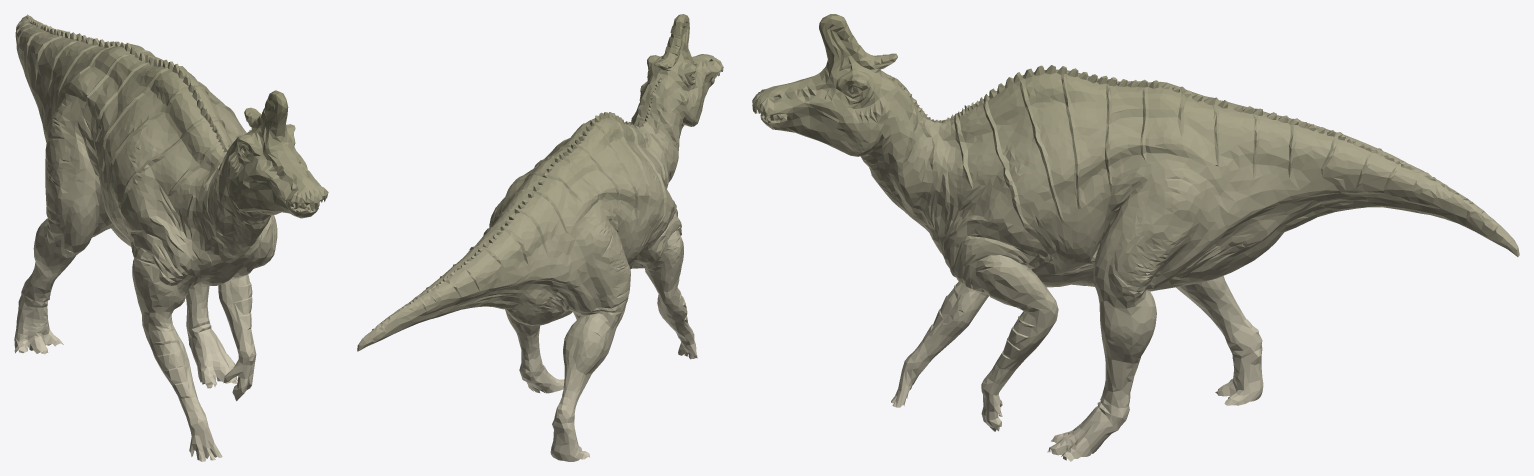
The model's file is lambeosaurus.glb.
3 renders of one model, left to right at view 1: azimuth 30°, elevation 25°; view 2: azimuth 150°, elevation 25°; view 3: azimuth 270°, elevation 25°, orthographic. The views are drawn at different scales.
Parts seen in each view (by area): view 1: world; view 2: world; view 3: world.
Boxes of the visible parts, x1,y1,x2,y2 form: world: (14, 14, 328, 461); world: (357, 14, 723, 461); world: (752, 14, 1519, 461).
Bounding box in the file's own units: 58.72 × 134 × 228.
